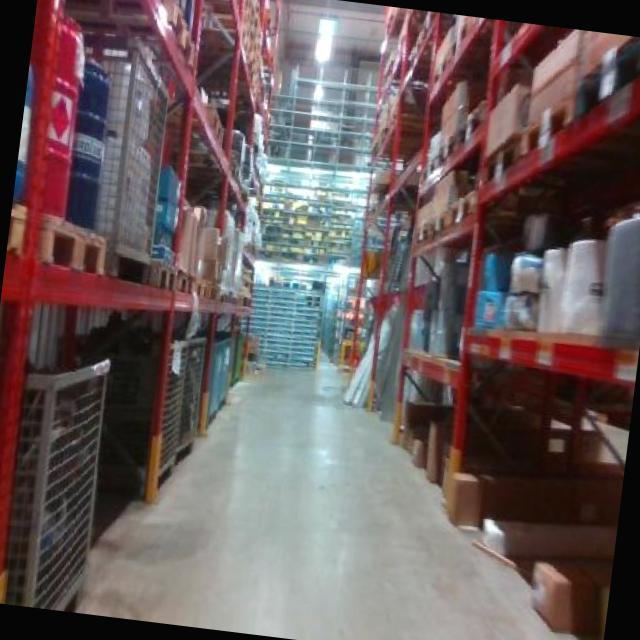pallet: (29, 204, 115, 280), (469, 132, 523, 182), (144, 255, 192, 293)
